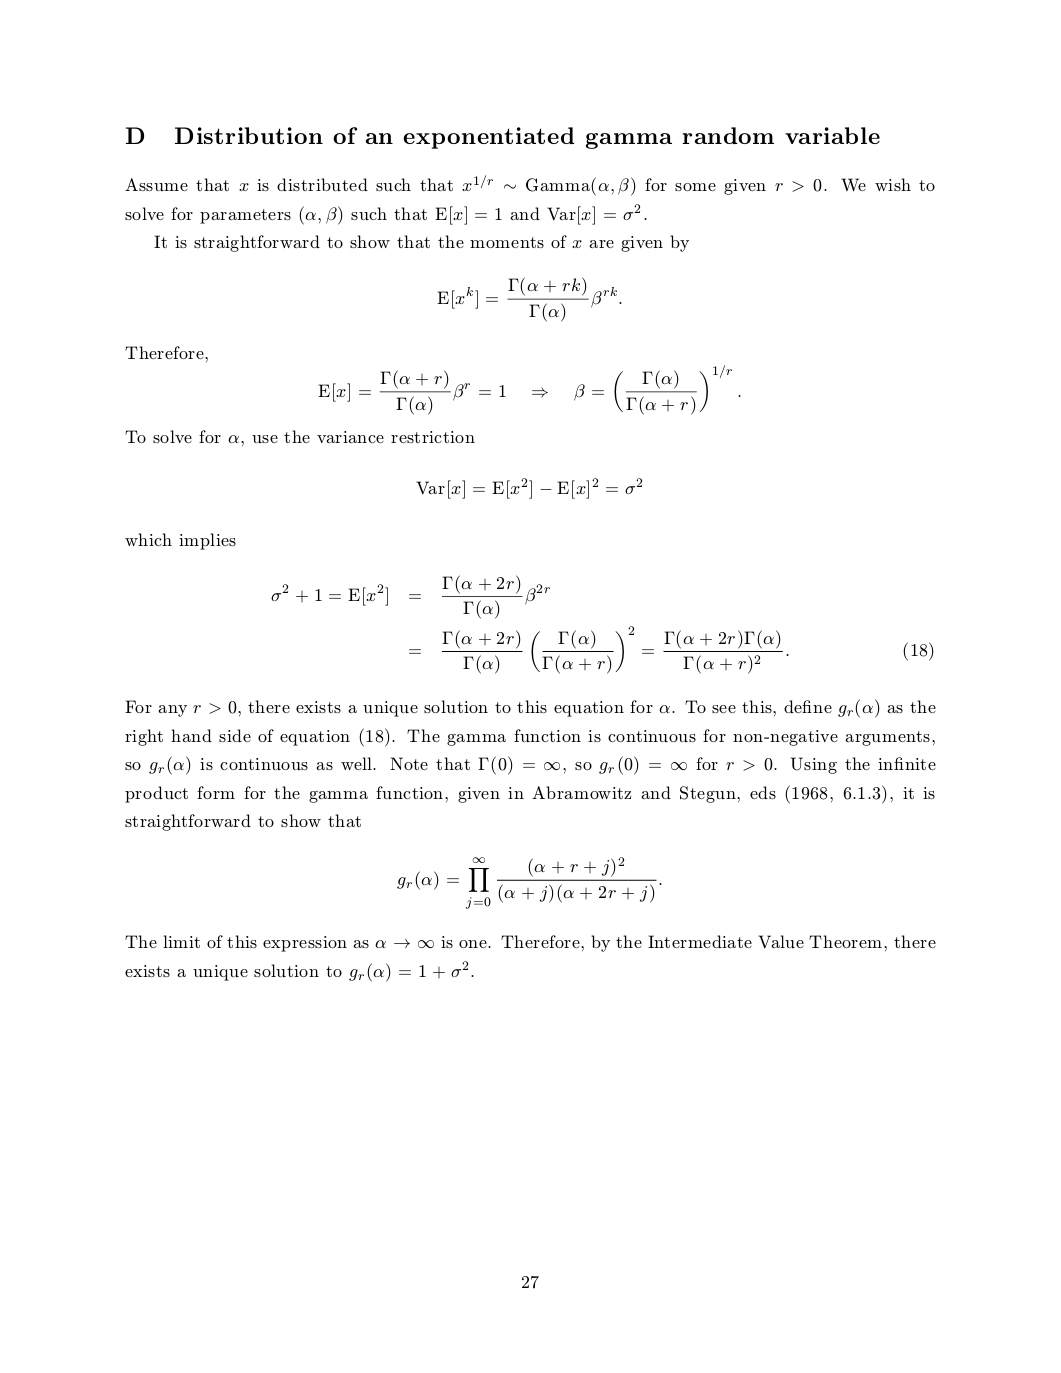formula: (409, 625, 933, 674), (318, 366, 740, 413), (397, 855, 661, 909), (271, 574, 549, 619), (437, 276, 621, 322), (416, 478, 642, 498)
